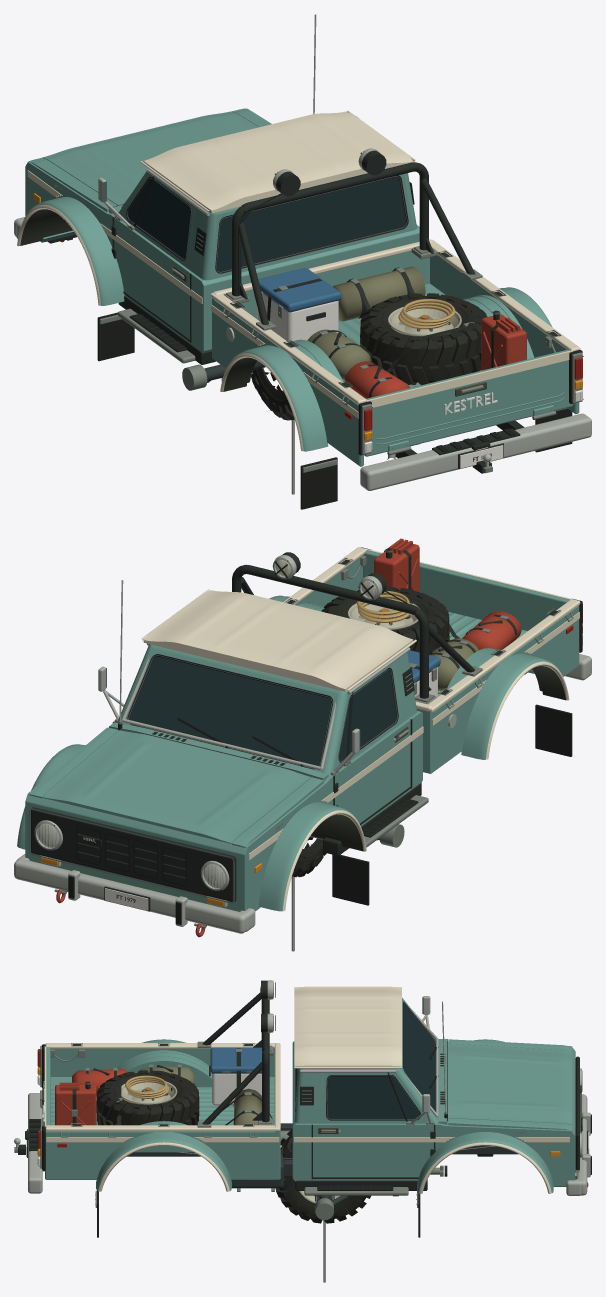
The model's file is vehicle_ranger.glb.
The picture shows the model from 3 angles, top to bottom: view 1: azimuth 30°, elevation 25°; view 2: azimuth 150°, elevation 25°; view 3: azimuth 270°, elevation 25°; orthographic projection. The views are drawn at different scales.
Parts seen in each view (by area): view 1: Body, Wheel, AxleFront; view 2: Body, Wheel; view 3: Body, Wheel, AxleFront.
Boxes of the visible parts, box(x1,y1,x2,y2) form: Body: box(14, 14, 591, 509); Wheel: box(251, 368, 294, 420); AxleFront: box(182, 364, 265, 390); Body: box(14, 538, 591, 937); Wheel: box(292, 836, 326, 877); Body: box(14, 980, 591, 1237); Wheel: box(275, 1129, 370, 1223); AxleFront: box(315, 1195, 347, 1220).
Size of what is drawn, in the model's own units: 2.02 by 2.86 by 4.71.
